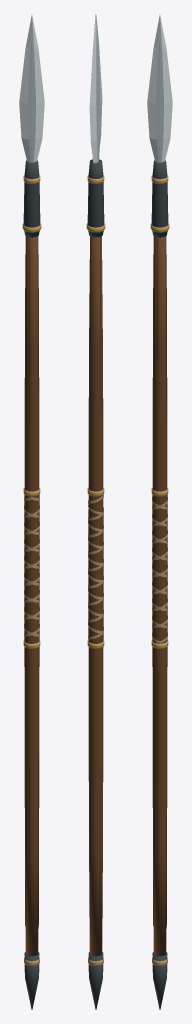
File: weapon_joseon_jangchang.glb
3 views of the same model, side by side, from view 1: azimuth 90°, elevation 25°; view 2: azimuth 150°, elevation 25°; view 3: azimuth 270°, elevation 25° (orthographic).
Visible parts, largest first — view 1: Authored_joseon_jangchang; view 2: Authored_joseon_jangchang; view 3: Authored_joseon_jangchang.
Boxes of the visible parts, box(x1,y1,x2,y2) form: Authored_joseon_jangchang: box(19, 14, 44, 1009); Authored_joseon_jangchang: box(86, 14, 105, 1009); Authored_joseon_jangchang: box(147, 14, 172, 1009).
Size of the model in its own units: 0.042 by 2.49 by 0.058.
